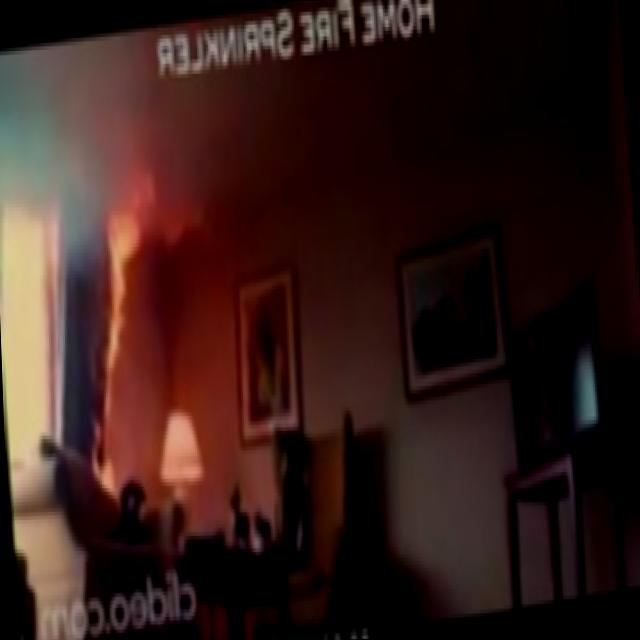fire: (60, 123, 182, 487)
